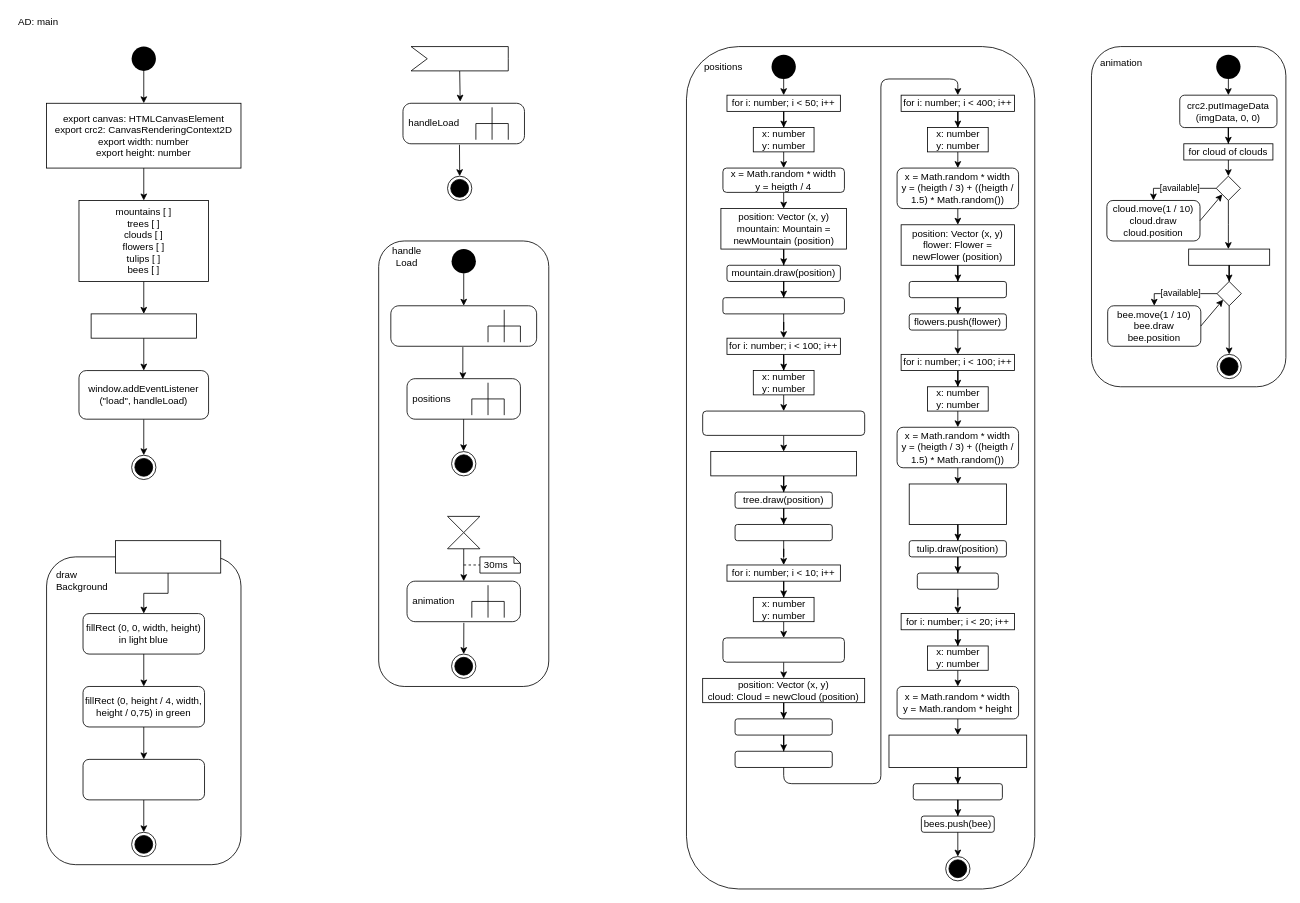
Image size: 1300x903. Some labels were removed from this diagram. The shapes that lost their labels are listed below. From the top down, each one's box as (x1, y1, x2, y2) in pixels, then its label:
(410, 46, 508, 71): window: load
(1188, 248, 1270, 265): for bee of bees
(722, 297, 844, 314): mountains.push(mountain)
(908, 281, 1006, 298): flower.draw(position)
(90, 313, 196, 338): imgData: ImageData
(390, 305, 537, 346): drawBackground (canvas)
(702, 410, 865, 435): x = Math.random * width y = heigth / 5 + Math.random * 40
(710, 451, 857, 476): position: Vector (x, y) tree: Tree = newTree (position)
(908, 483, 1006, 524): position: Vector (x, y) tulip: Tulip = newTulip (position)
(734, 524, 832, 541): trees.push(tree)
(115, 540, 221, 573): _canvas: HTMLCanvasElement
(917, 572, 998, 589): tulips.push(tulip)
(722, 637, 844, 662): x = Math.random * width y = 0 + Math.random * 50
(734, 718, 832, 735): cloud.draw(position)
(734, 750, 832, 767): clouds.push(cloud)
(888, 734, 1027, 767): position: Vector (x, y) bee: Bee = newBee (position)
(82, 759, 205, 800): draw circle + rays in yellow as sun
(912, 783, 1002, 800): bee.draw(position)
